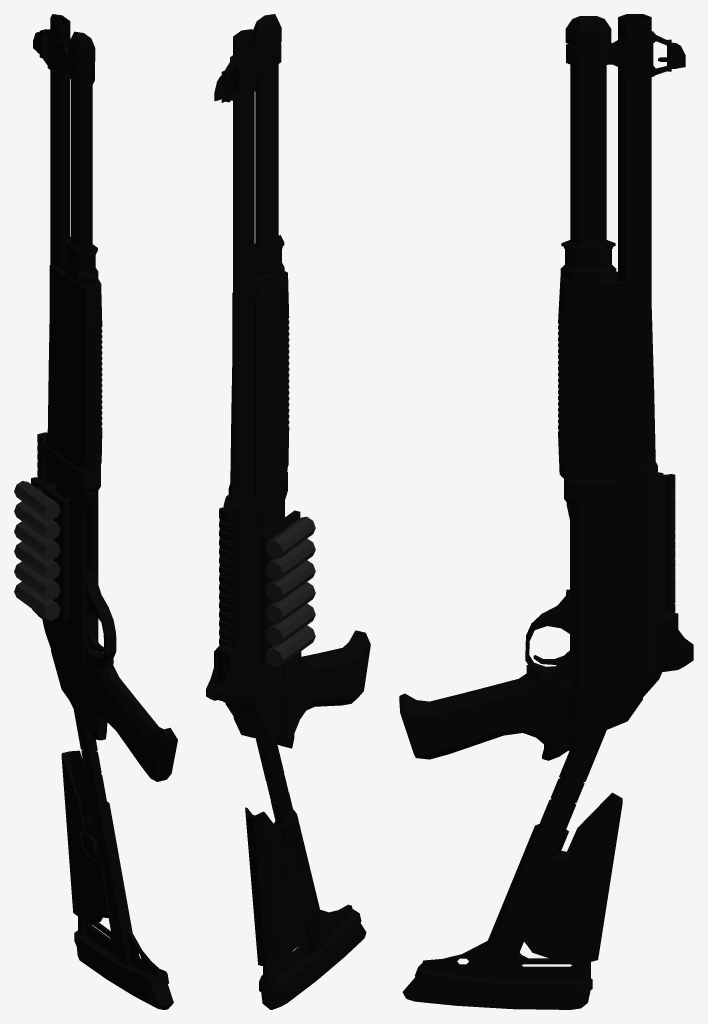
File: BenelliM4__Sidesaddle_Shotgun.fbx
3 views of the same model, side by side, from view 1: azimuth 30°, elevation 25°; view 2: azimuth 150°, elevation 25°; view 3: azimuth 270°, elevation 25° (orthographic). The views are drawn at different scales.
Visible parts, largest first — view 1: asset_BenelliM4.001; view 2: asset_BenelliM4.001; view 3: asset_BenelliM4.001.
Boxes of the visible parts, x1=… form: asset_BenelliM4.001: x1=14, y1=14, x2=177, y2=1009; asset_BenelliM4.001: x1=206, y1=14, x2=370, y2=1009; asset_BenelliM4.001: x1=399, y1=14, x2=693, y2=1009.
Bounding box in the file's own units: 0.0366 × 0.606 × 0.1633.
